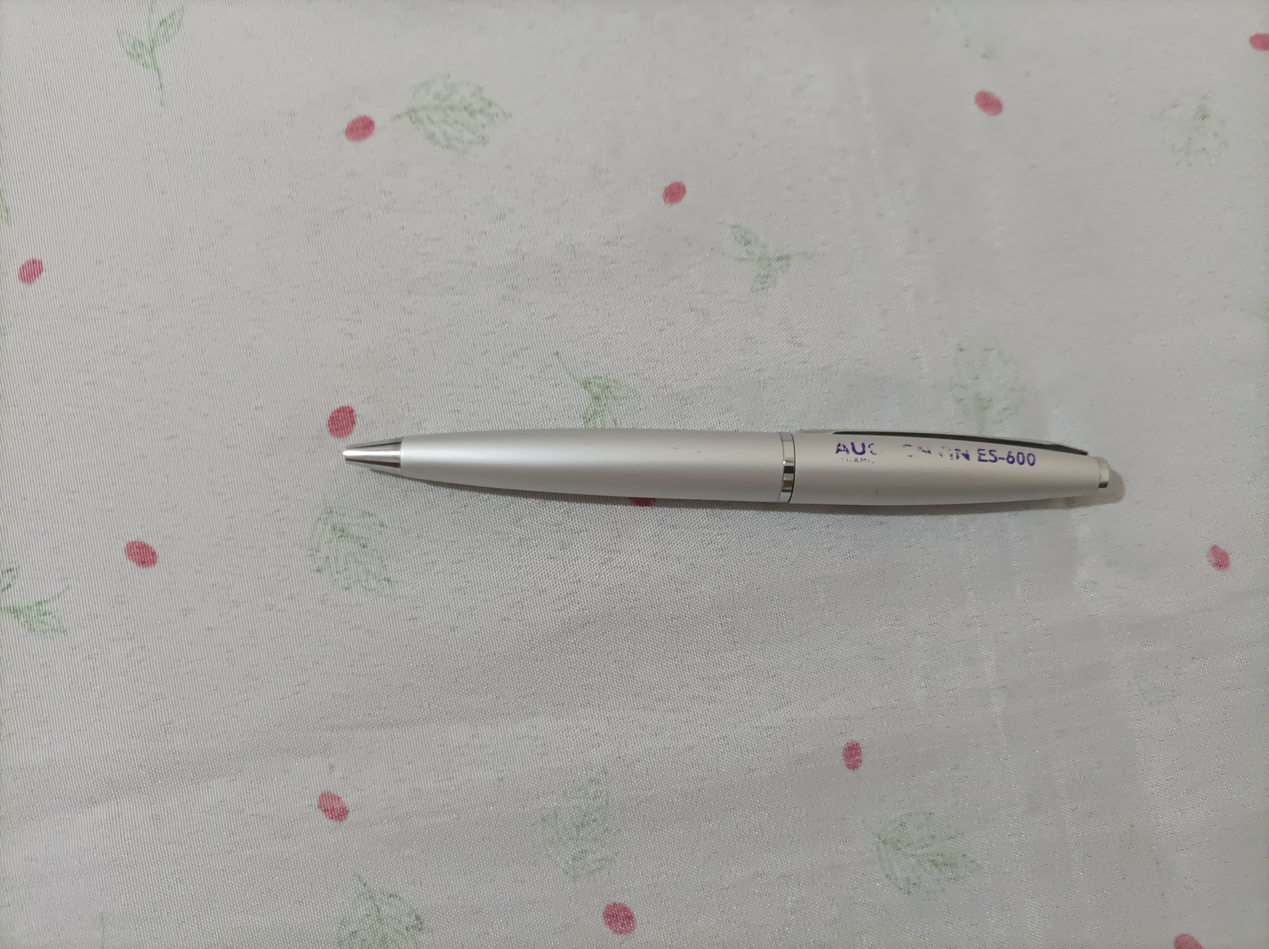plastic: (337, 416, 1177, 529)
